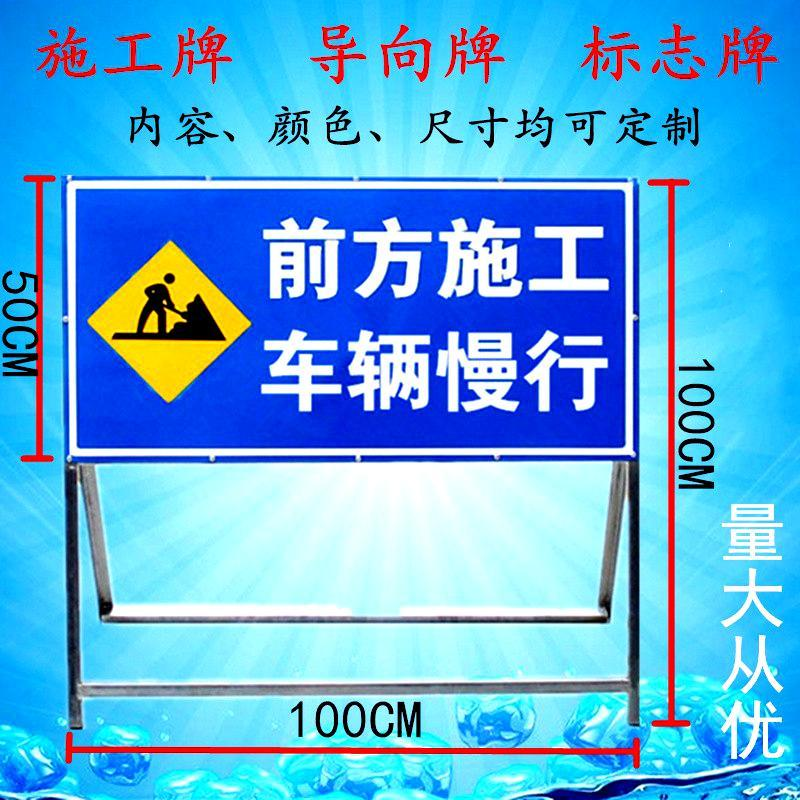sign: (62, 172, 643, 463)
